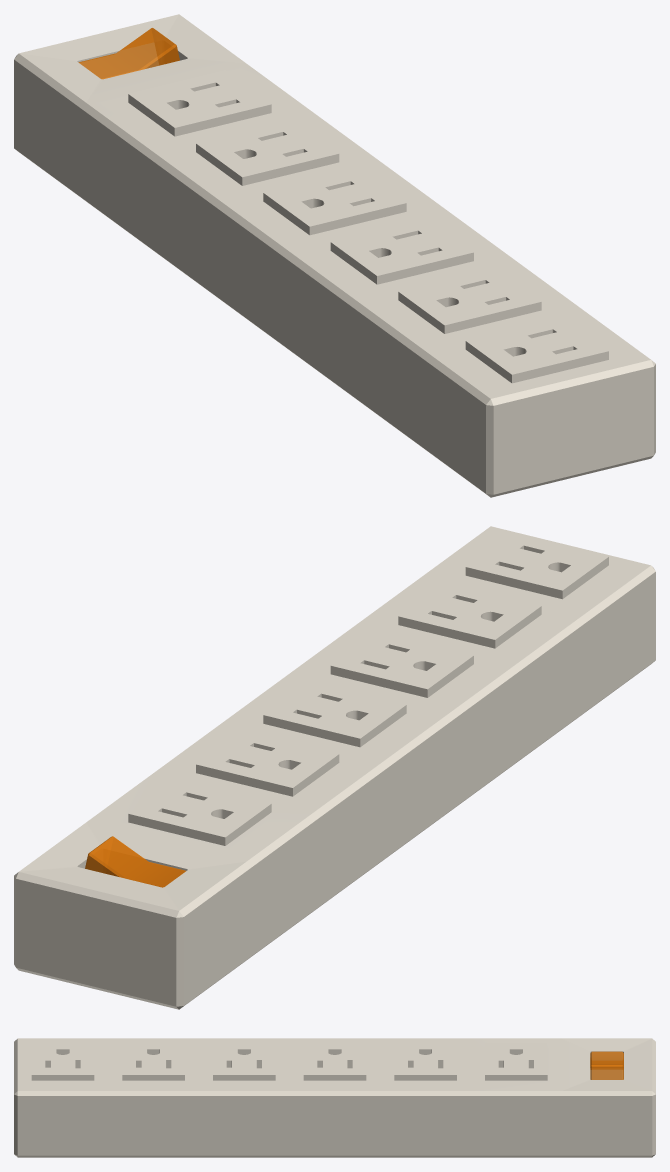
Rendered from ExtentionCord.fbx.
The picture shows the model from 3 angles, top to bottom: view 1: azimuth 30°, elevation 25°; view 2: azimuth 150°, elevation 25°; view 3: azimuth 270°, elevation 25°; orthographic projection. The views are drawn at different scales.
Visible parts, largest first — view 1: Base, Button; view 2: Base, Button; view 3: Base, Button.
Boxes of the visible parts, x1,y1,x2,y2 form: Base: [14, 14, 655, 497]; Button: [78, 28, 179, 79]; Base: [14, 526, 655, 1009]; Button: [85, 836, 185, 887]; Base: [14, 1038, 655, 1157]; Button: [590, 1051, 623, 1079].
Size of the model in its own units: 4.5 by 2.88 by 21.91.
